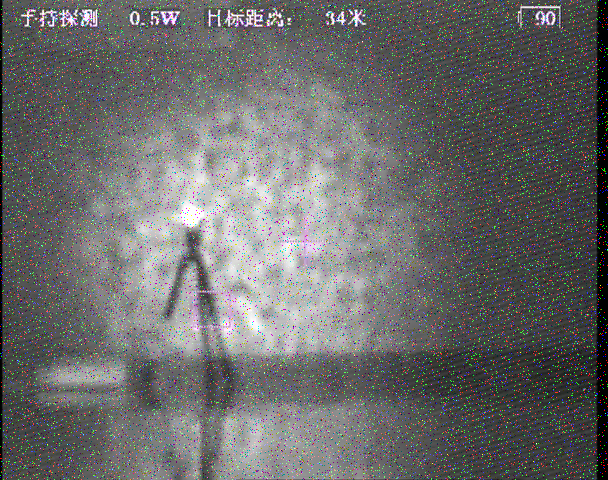my: (179, 201, 203, 230)
